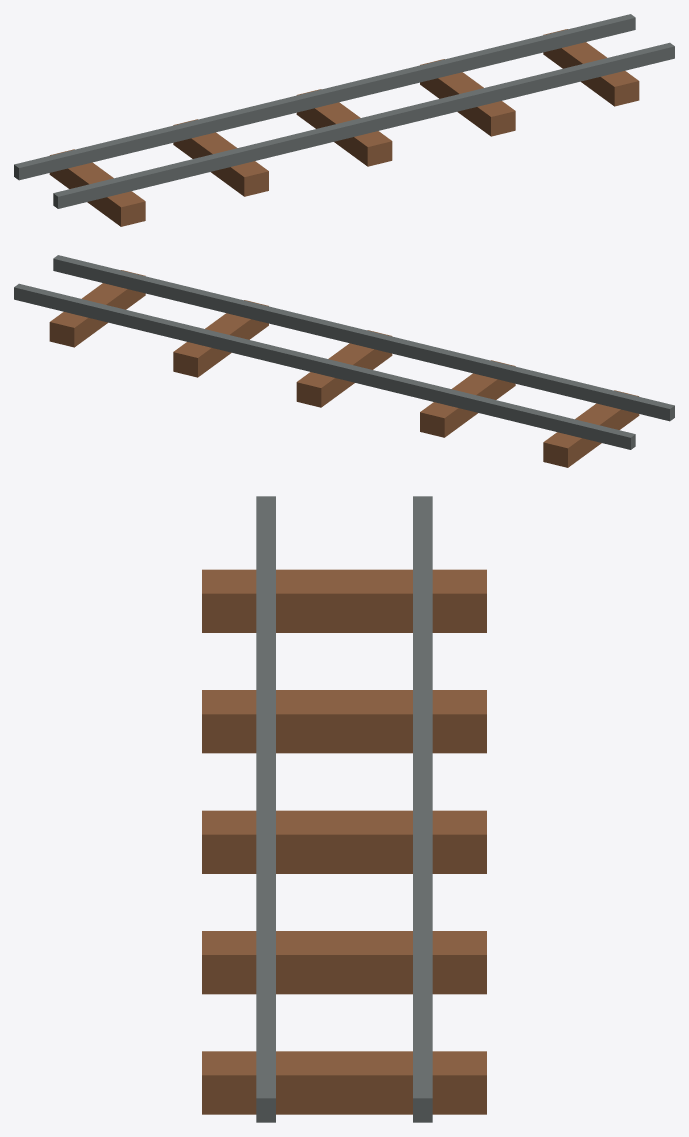
The model's file is board_trilho.glb.
3 renders of one model, top to bottom at view 1: azimuth 30°, elevation 25°; view 2: azimuth 150°, elevation 25°; view 3: azimuth 270°, elevation 25°, orthographic. The views are drawn at different scales.
Parts seen in each view (by area): view 1: board_trilho; view 2: board_trilho; view 3: board_trilho.
Boxes of the visible parts, x1,y1,x2,y2 form: board_trilho: (14, 14, 674, 226); board_trilho: (14, 255, 674, 467); board_trilho: (202, 496, 486, 1122).
Size of the model in its own units: 10 by 0.5 by 2.
